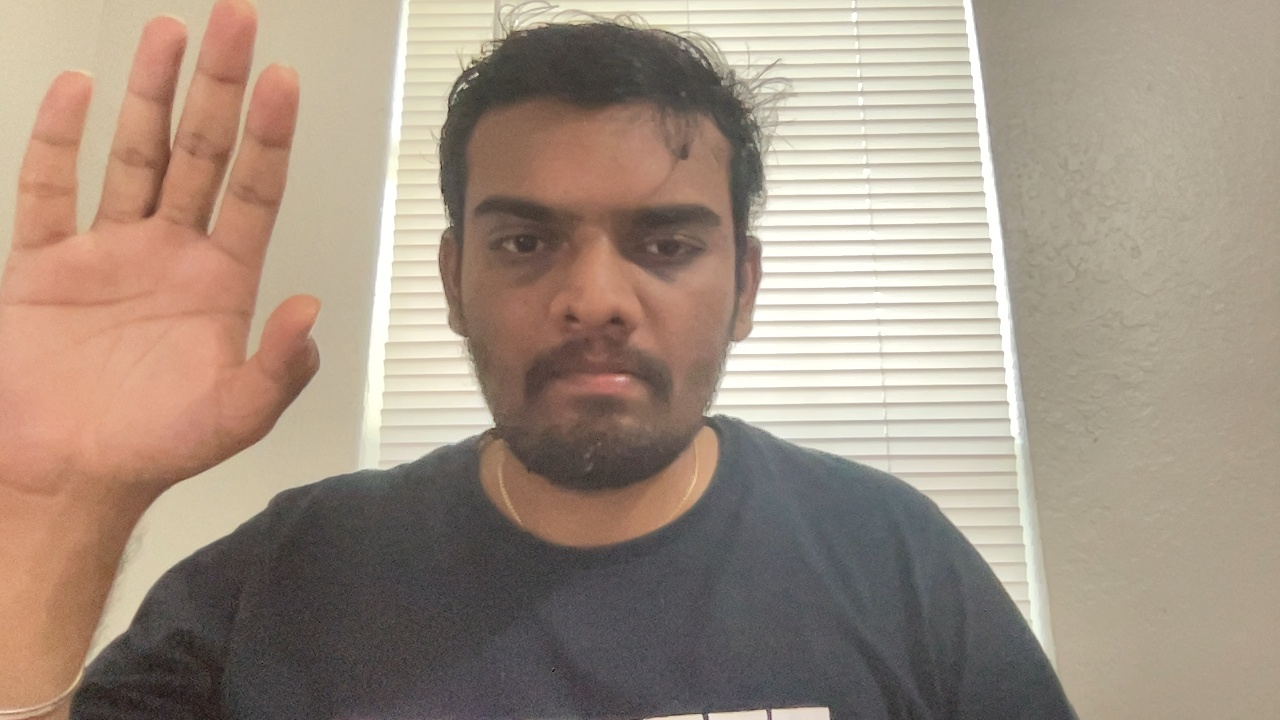hello: (1, 8, 330, 493)
